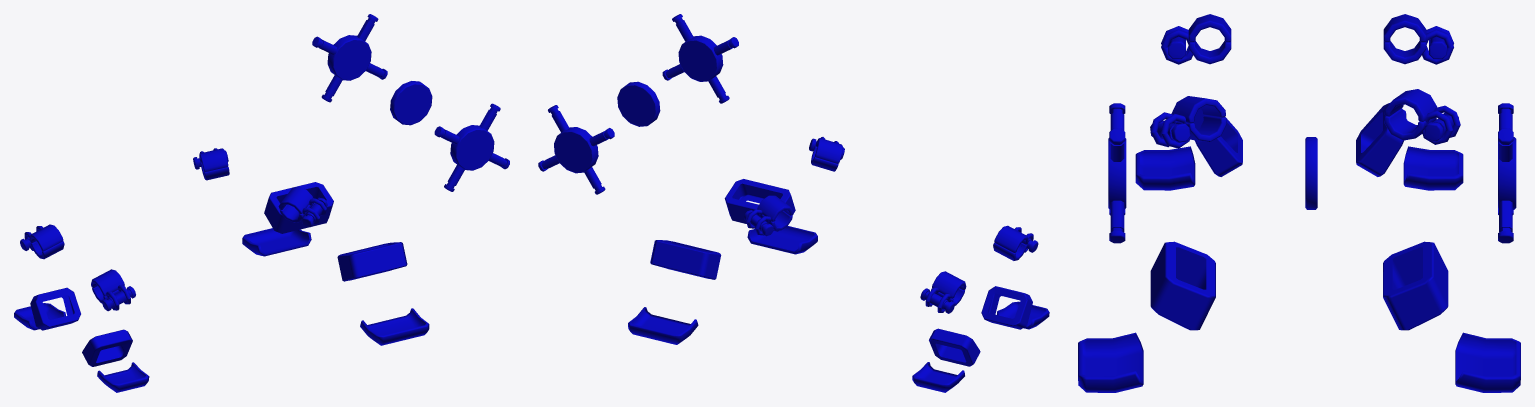
The picture shows the model from 3 angles, left to right: view 1: azimuth 30°, elevation 25°; view 2: azimuth 150°, elevation 25°; view 3: azimuth 270°, elevation 25°; orthographic projection. The views are drawn at different scales.
Visible parts, largest first — view 1: SM_DR_DemonChains_01_LOD0; view 2: SM_DR_DemonChains_01_LOD0; view 3: SM_DR_DemonChains_01_LOD0.
Part boxes in pixels (x1,y1,x2,y2): SM_DR_DemonChains_01_LOD0: (14, 14, 509, 392); SM_DR_DemonChains_01_LOD0: (538, 14, 1049, 392); SM_DR_DemonChains_01_LOD0: (1078, 14, 1520, 392).
Size of the model in its own units: 3.42 by 1.72 by 2.12.
